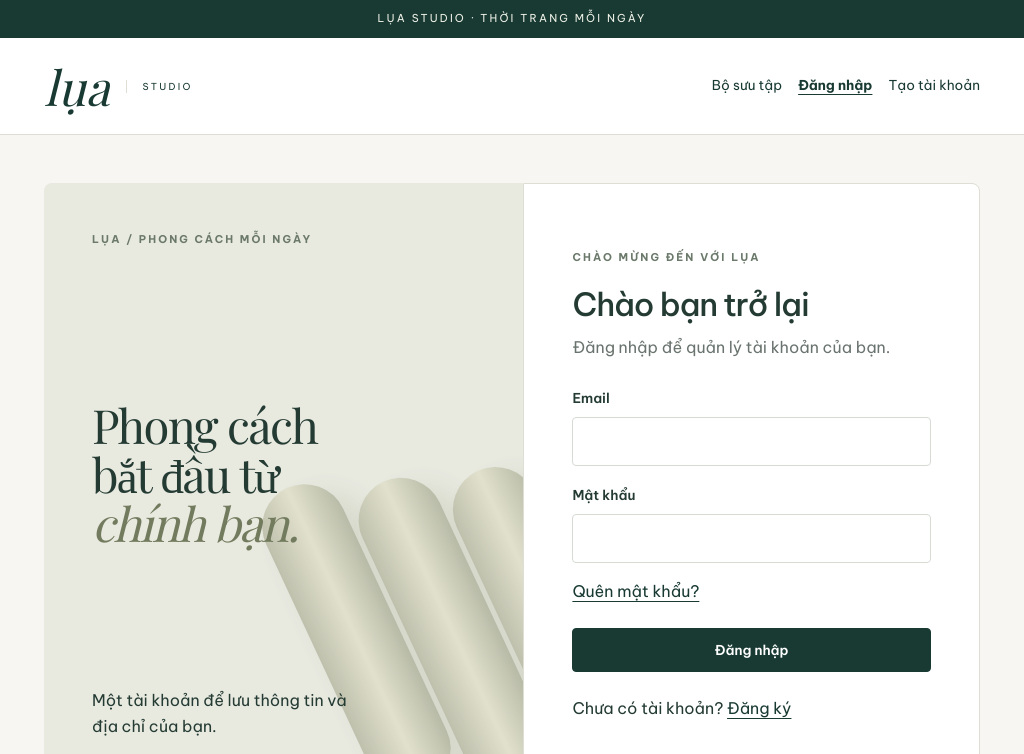
Scenario: lỗi đăng nhập hiển thị tiếng Việt và không tạo phiên
The width and height of the screenshot is (1024, 754).
Type "an@example.com" into the field labelled "Email". click: x=752, y=442
box: [572,417,931,466]
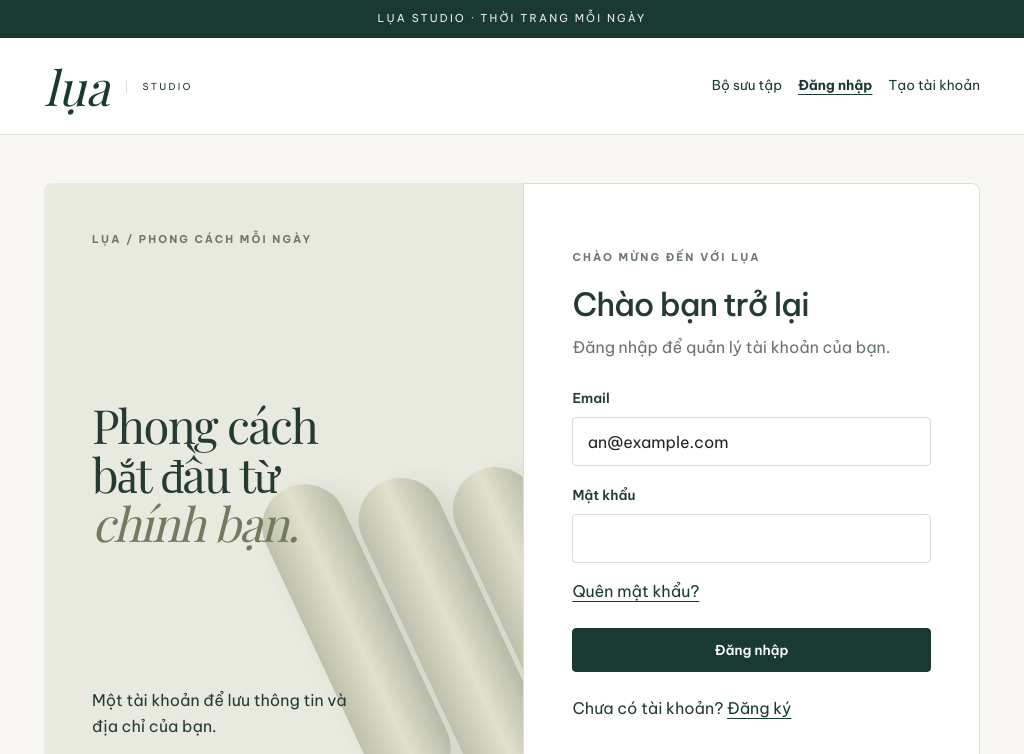
Type "wrong" into the password field labelled "Mật khẩu". click: x=752, y=539
box: [572,514,931,563]
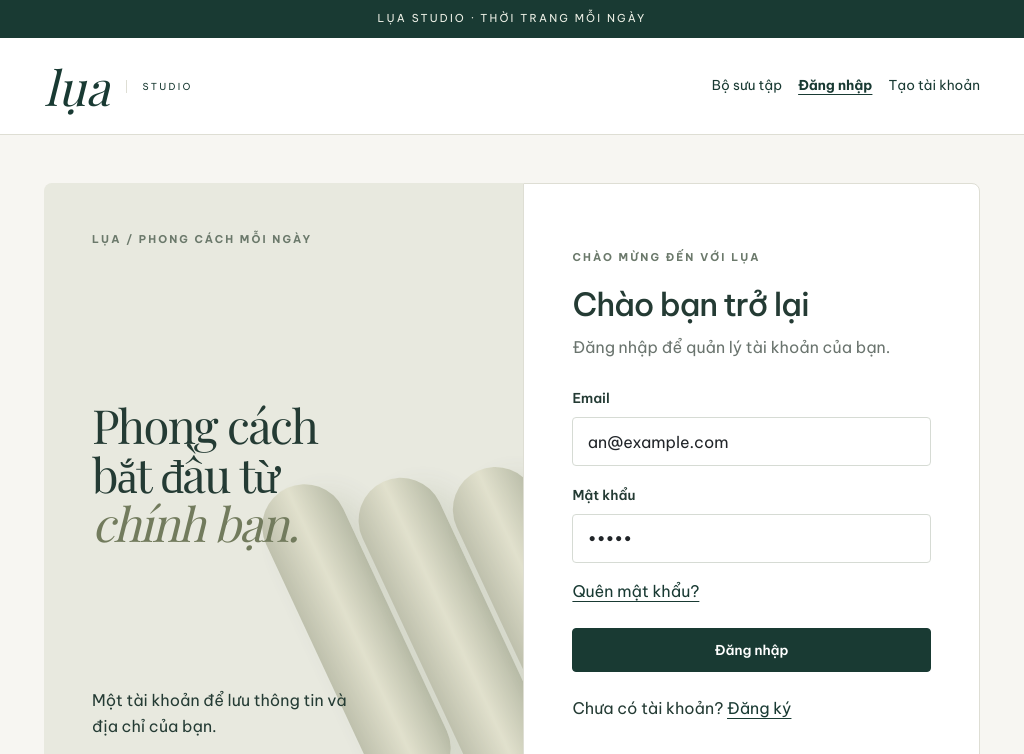
Click the button "Đăng nhập". click: x=752, y=650
box: [572,628,931,672]
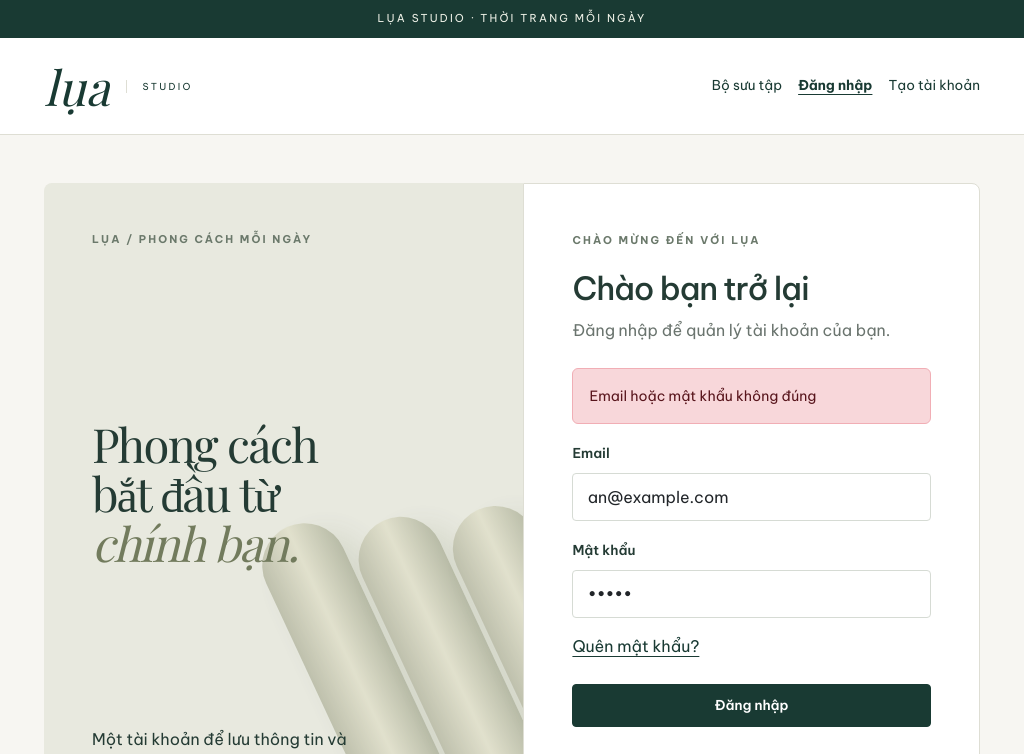
Expected: the message reads "Email hoặc mật khẩu không đúng", [589,387,816,405]
